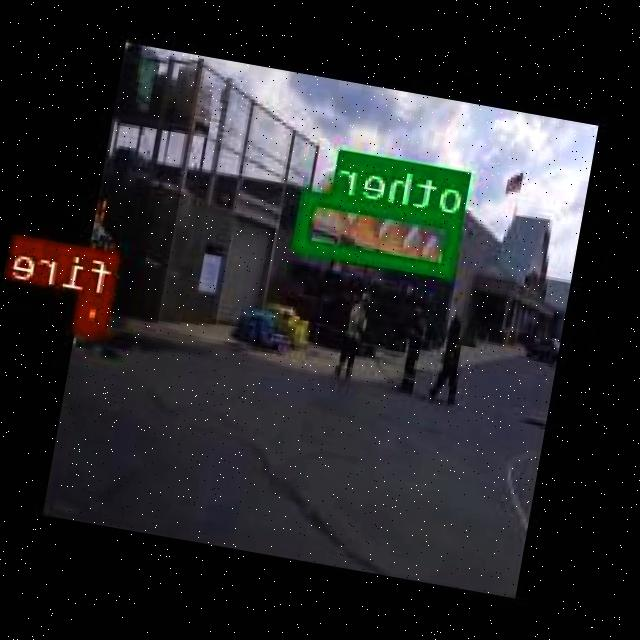fire: (76, 290, 113, 332)
